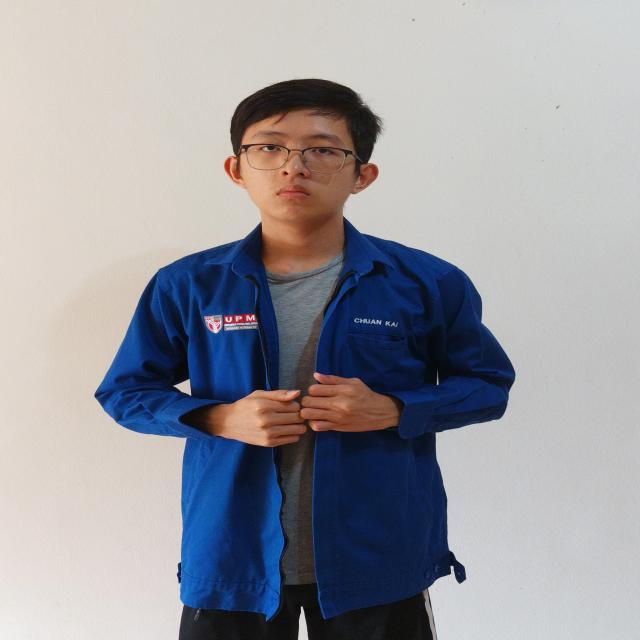person_with_labcoat: (96, 80, 514, 640)
